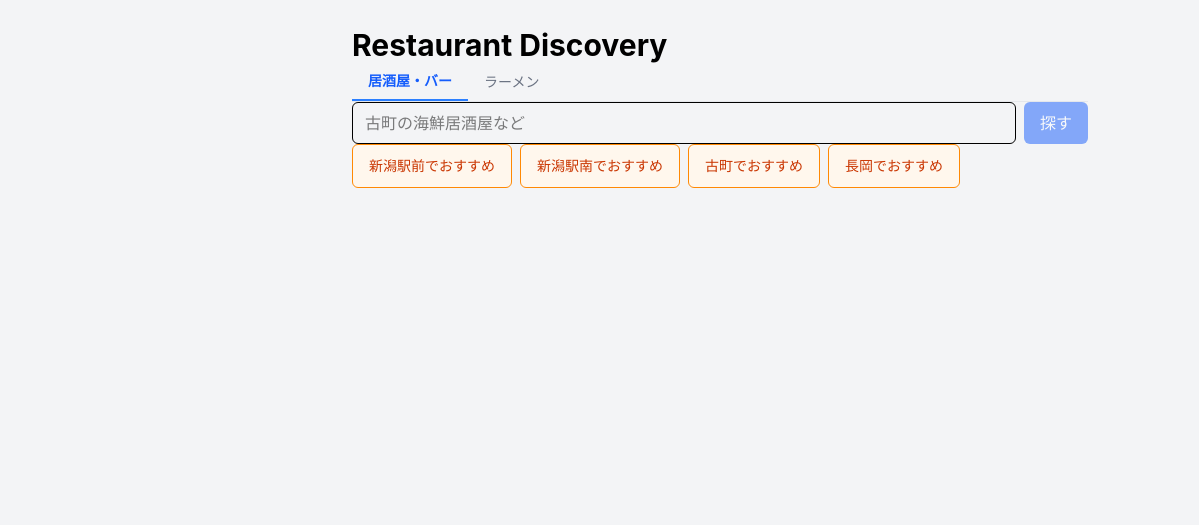
Scenario: App - ramen-search-mode 結合テスト › タブ切り替え: 居酒屋→ラーメンで検索結果リセットとおまかせボタン消失（Req 1.2, 1.4, 1.5）
This screenshot has width=1199, height=525.
expect the button "新潟駅前でおすすめ" is shown: met, box left=352, top=144, right=512, bottom=188
# 居酒屋タブで検索して結果表示
Type "長岡の居酒屋" into the field named "レストラン検索".
click(684, 123); type("長岡の居酒屋")  # box left=352, top=102, right=1016, bottom=144
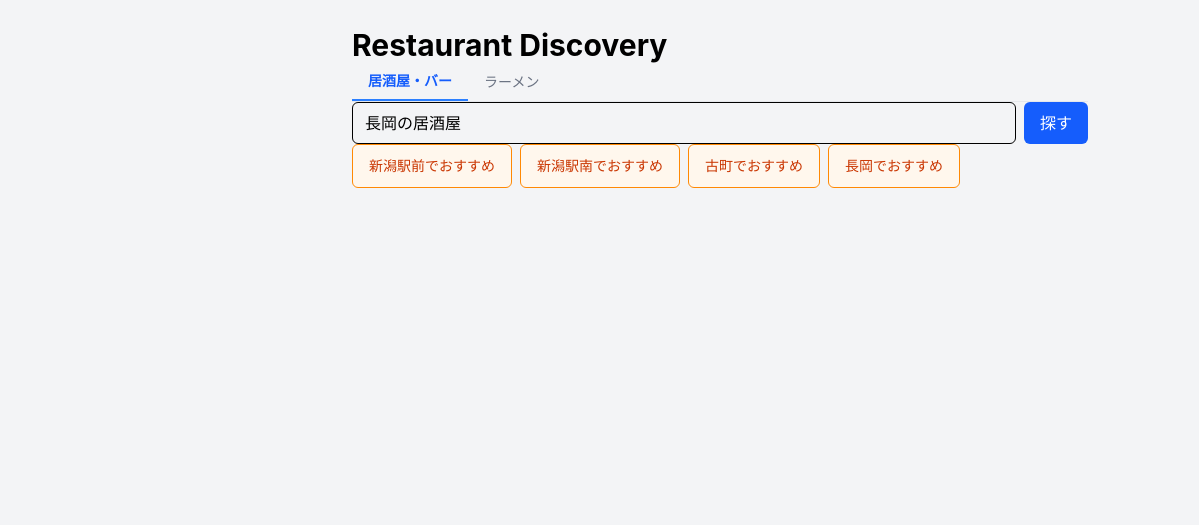
Submit the form, box left=352, top=102, right=1088, bottom=144
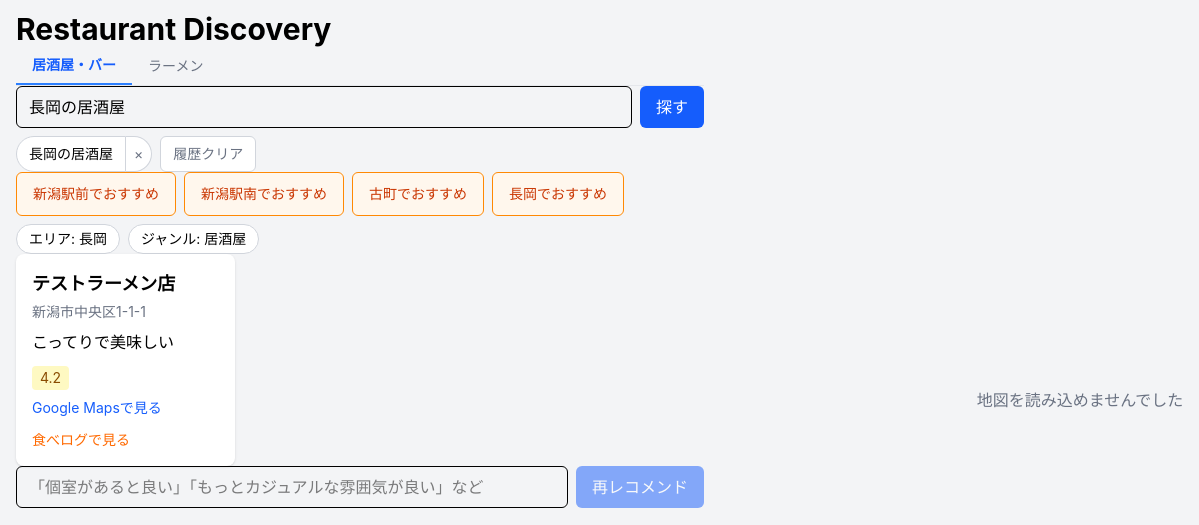
expect the heading "テストラーメン店" is shown: met, box left=32, top=273, right=175, bottom=294
# ラーメンタブに切り替え
Click the tab "ラーメン".
click(176, 66)  # box left=132, top=47, right=220, bottom=85
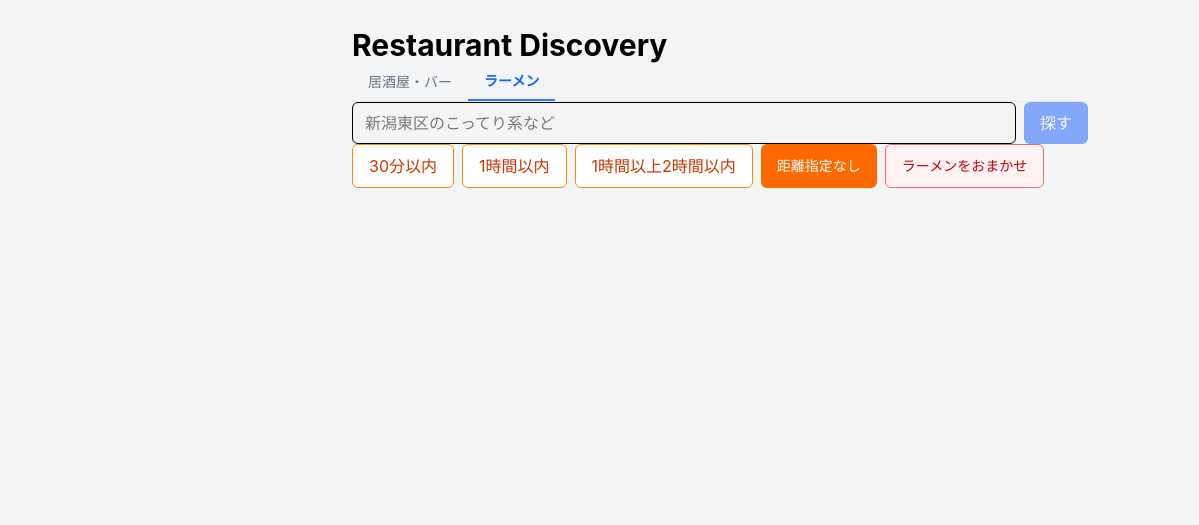
expect the heading "テストラーメン店" is gone: met
expect the button "新潟駅前でおすすめ" is gone: met
